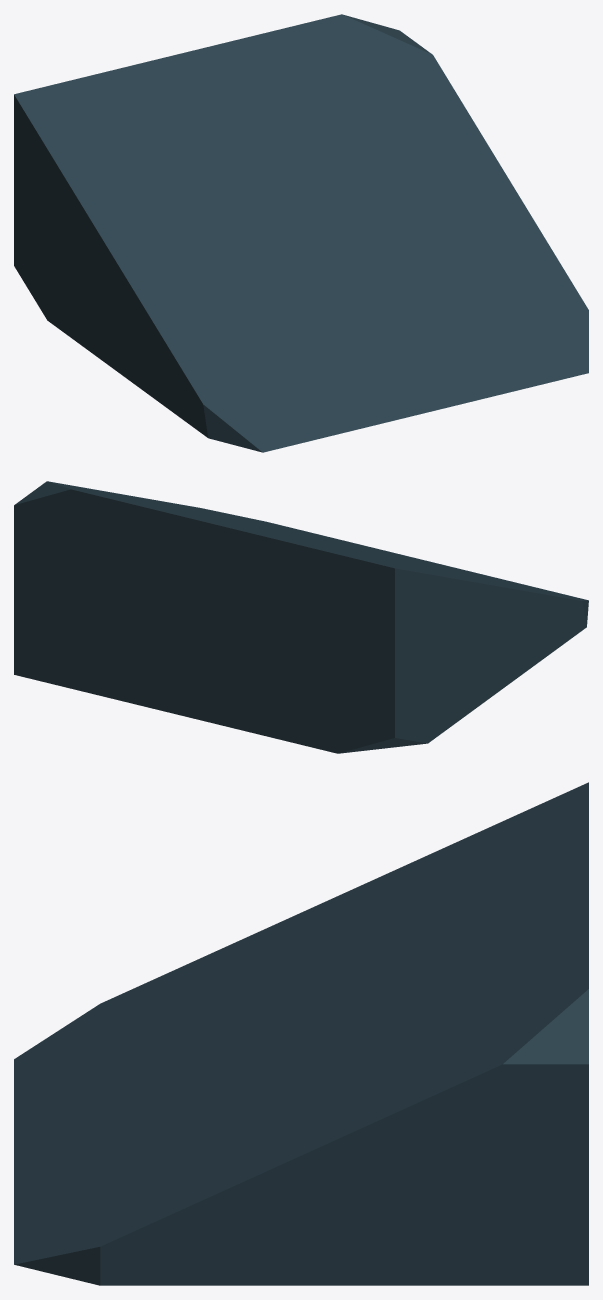
The model's file is ramp_long_straight_wide.fbx.
3 views of the same model, one above another, from view 1: azimuth 30°, elevation 25°; view 2: azimuth 150°, elevation 25°; view 3: azimuth 270°, elevation 25° (orthographic). The views are drawn at different scales.
Parts seen in each view (by area): view 1: ramp_long_straight_wide; view 2: ramp_long_straight_wide; view 3: ramp_long_straight_wide.
Boxes of the visible parts, <box> form: ramp_long_straight_wide: <box>14,14,588,452</box>; ramp_long_straight_wide: <box>14,481,588,753</box>; ramp_long_straight_wide: <box>14,782,588,1285</box>.
Size of the model in its own units: 200 by 100 by 200.
